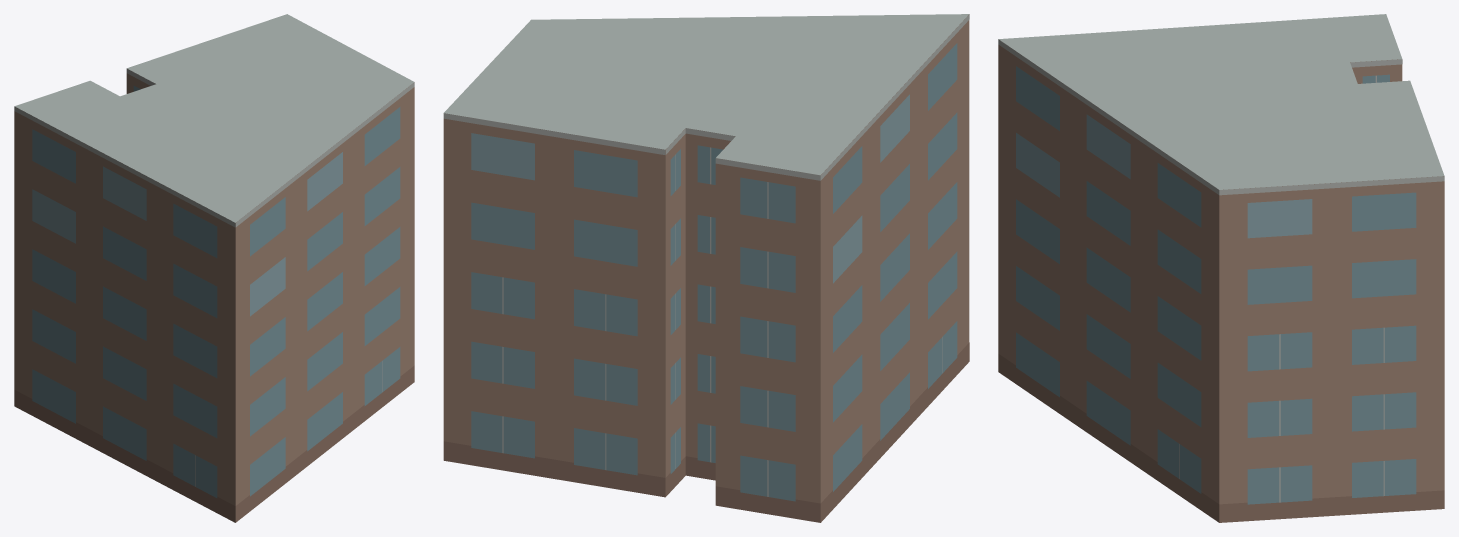
The model's file is survey-upis-32487249.glb.
The picture shows the model from 3 angles, left to right: view 1: azimuth 30°, elevation 25°; view 2: azimuth 150°, elevation 25°; view 3: azimuth 270°, elevation 25°; orthographic projection. The views are drawn at different scales.
Parts seen in each view (by area): view 1: survey-upis-32487249.tmp; view 2: survey-upis-32487249.tmp; view 3: survey-upis-32487249.tmp.
Part boxes in pixels (<box>): survey-upis-32487249.tmp: <box>14,14,414,522</box>; survey-upis-32487249.tmp: <box>443,14,969,522</box>; survey-upis-32487249.tmp: <box>998,14,1444,522</box>.
Bounding box in the file's own units: 17.36 × 15.3 × 18.6.
